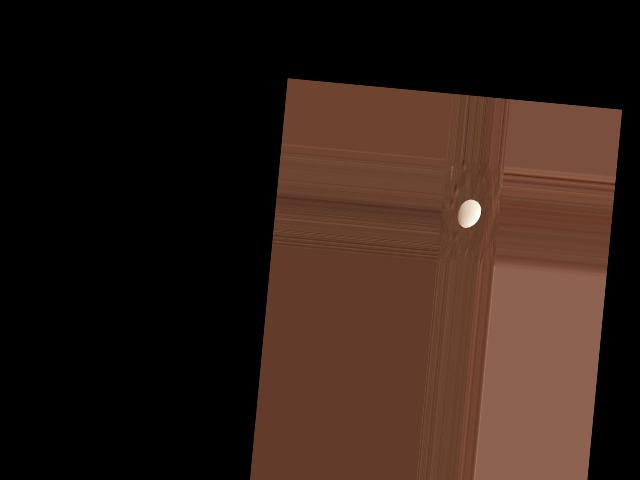egg: (456, 198, 481, 229)
